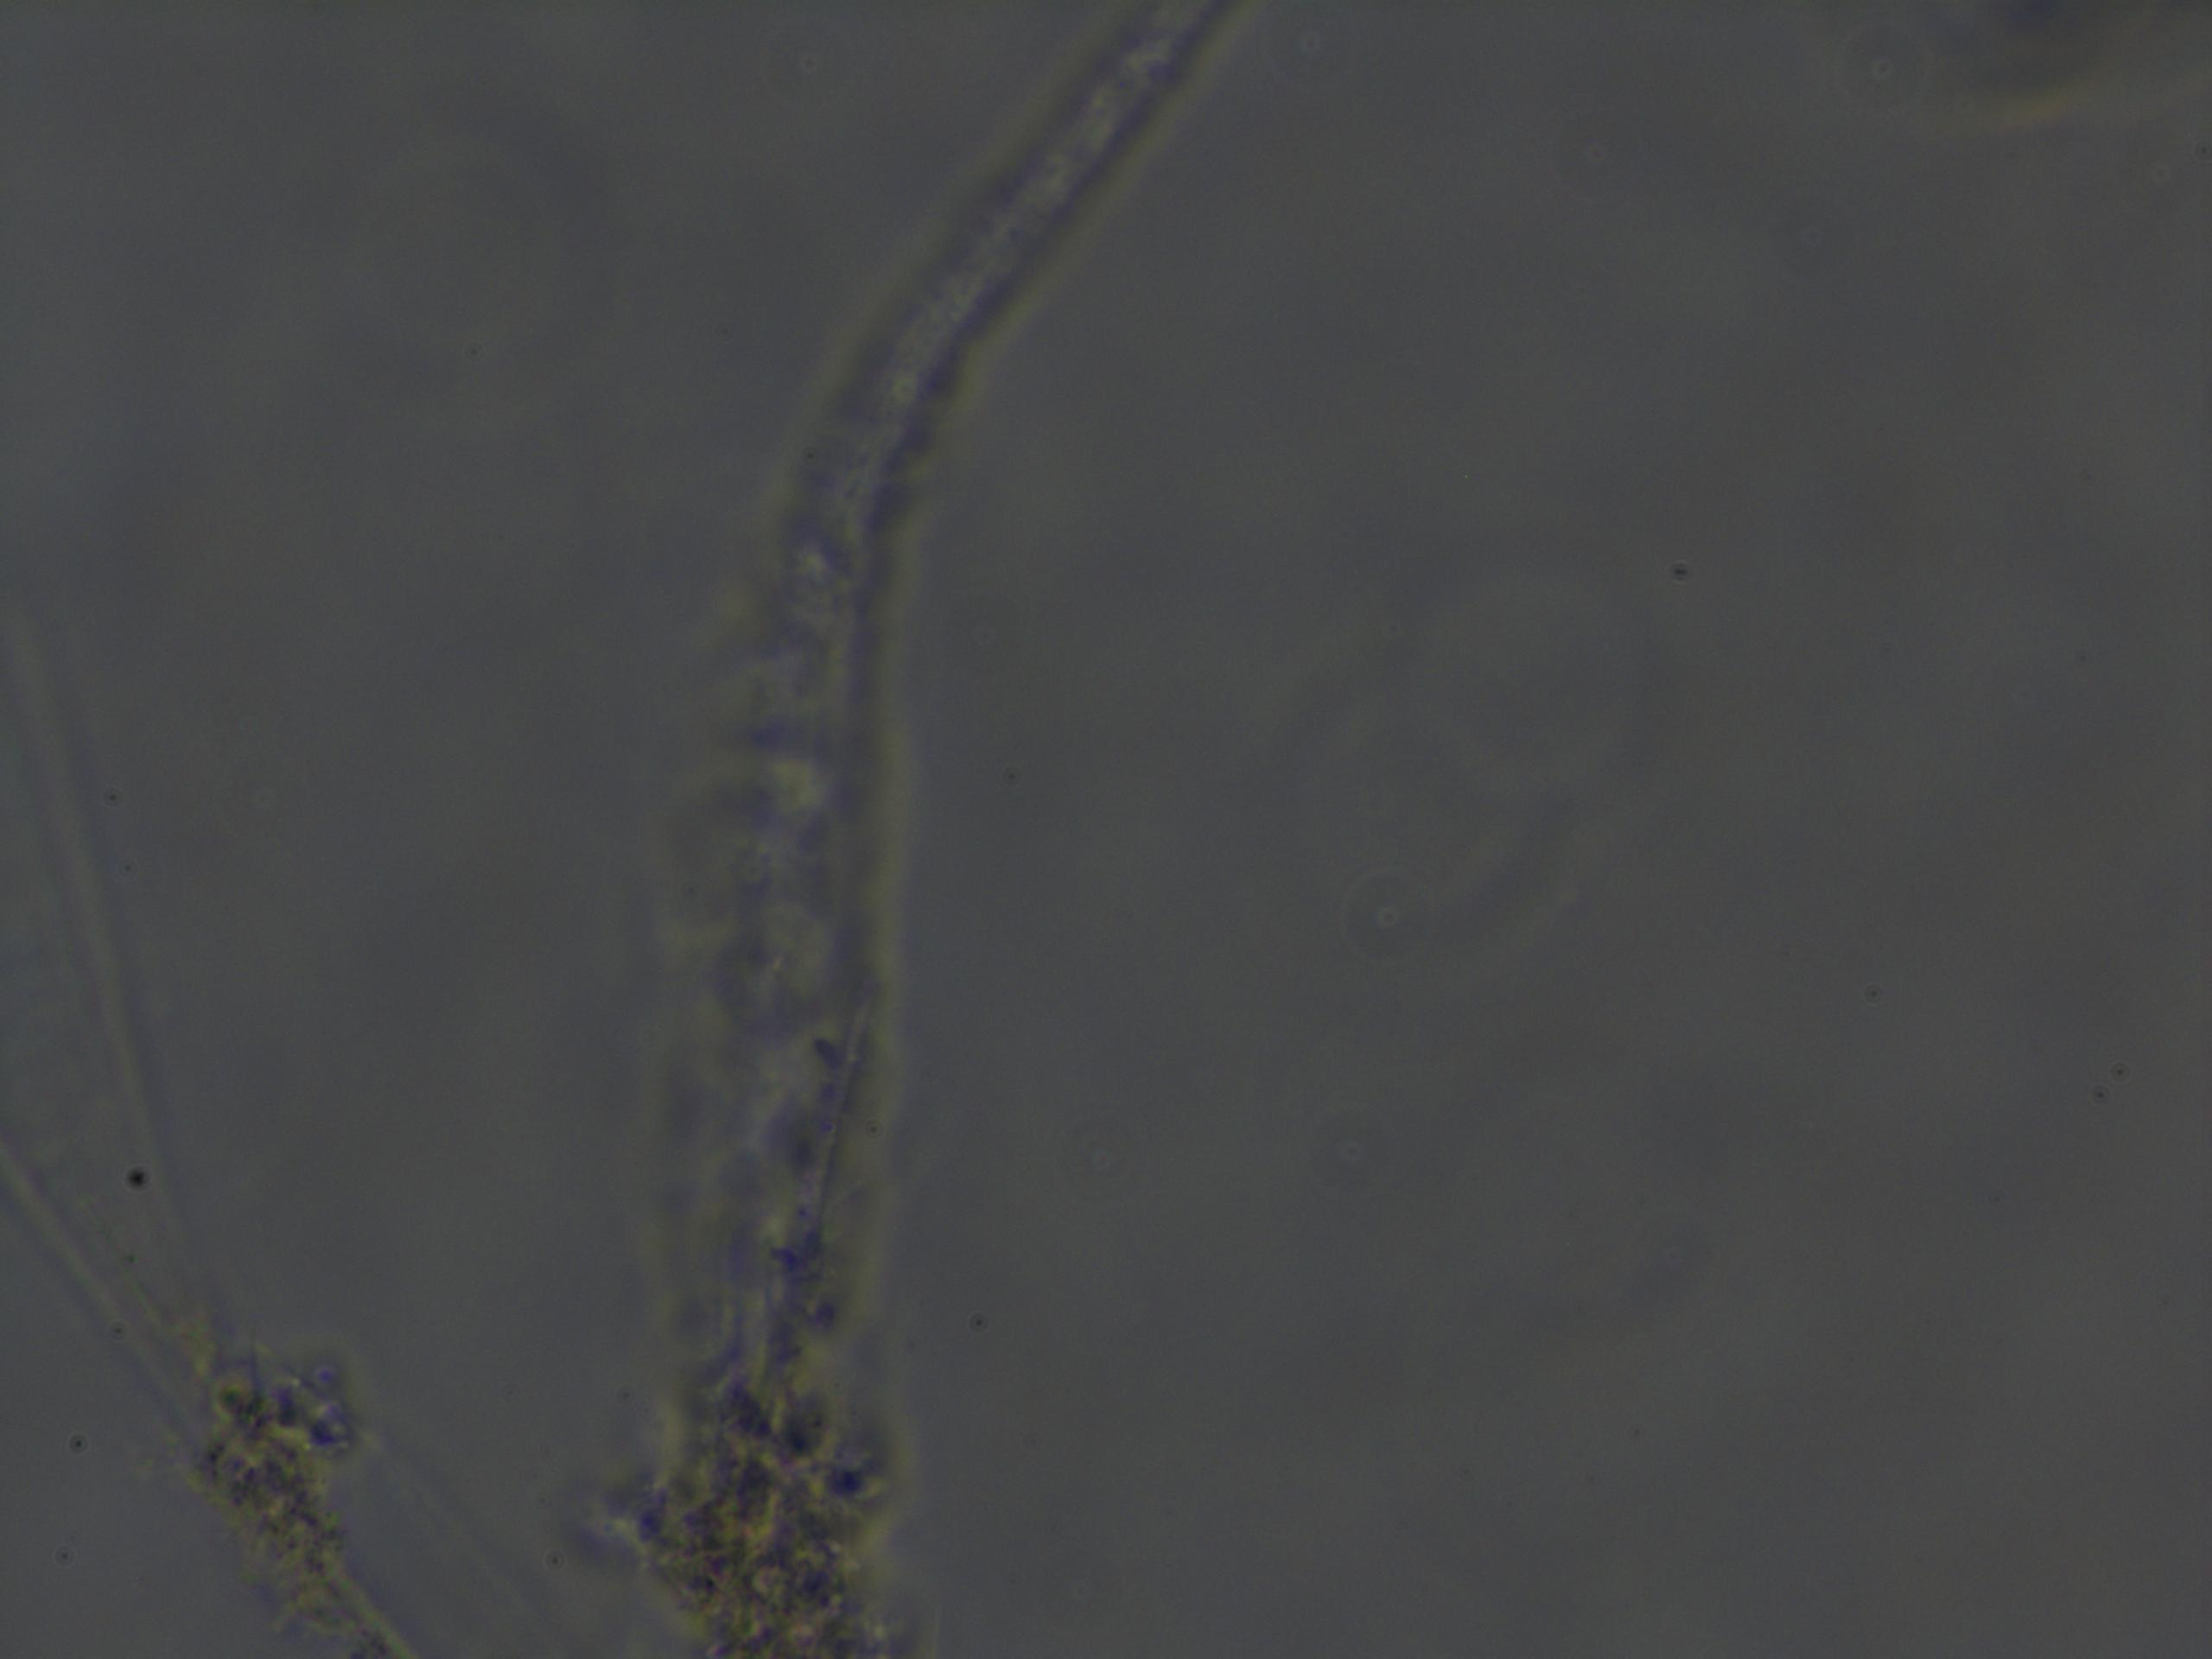filament: (636, 0, 1231, 1656), (0, 584, 425, 1659)
